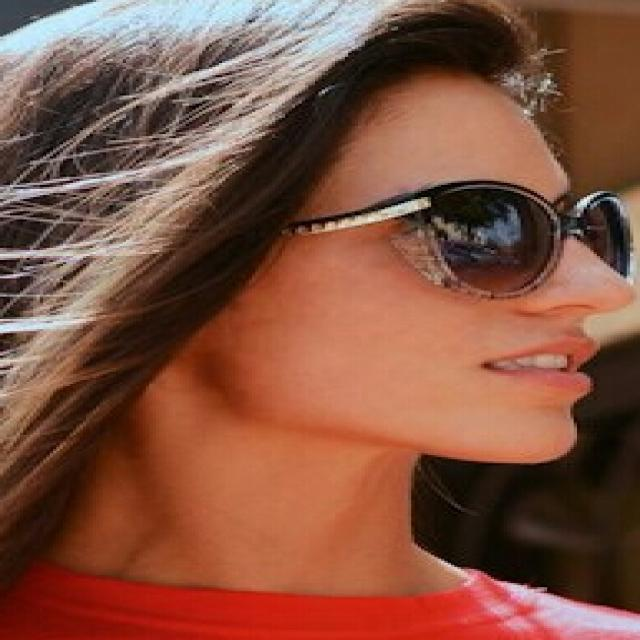front: (356, 129, 615, 451)
